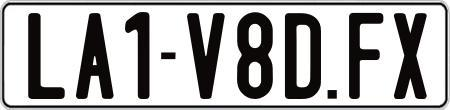1: (124, 12, 154, 102)
8: (235, 11, 274, 98)
A: (75, 13, 114, 105)
D: (283, 12, 321, 104)
F: (349, 11, 385, 99)
L: (25, 13, 62, 103)
V: (187, 13, 231, 105)
X: (394, 11, 430, 98)
